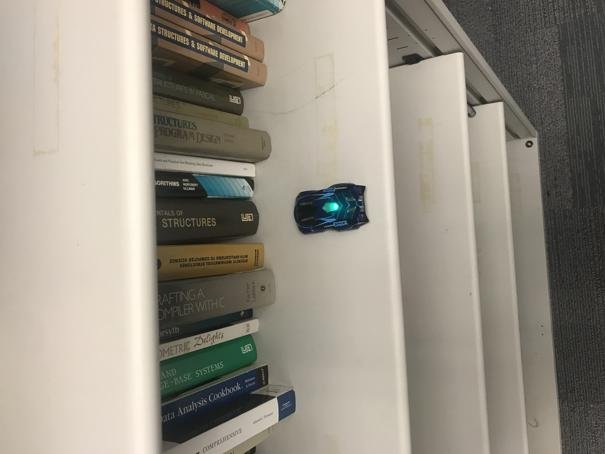Shock: (293, 182, 369, 235)
